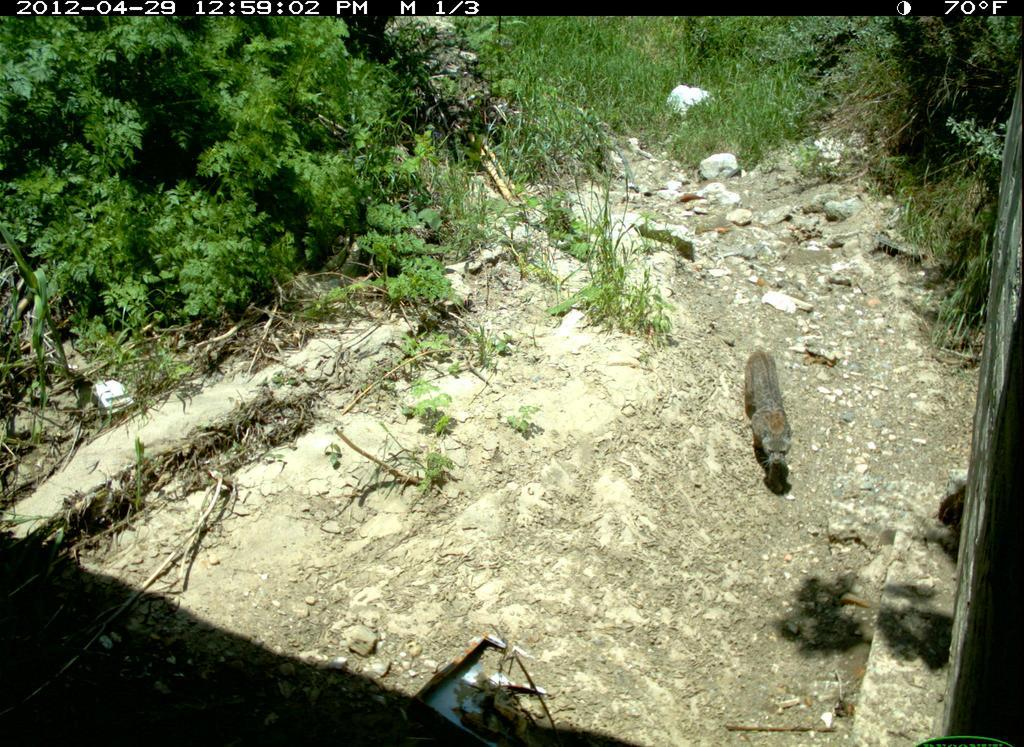bobcat: (735, 344, 801, 502)
